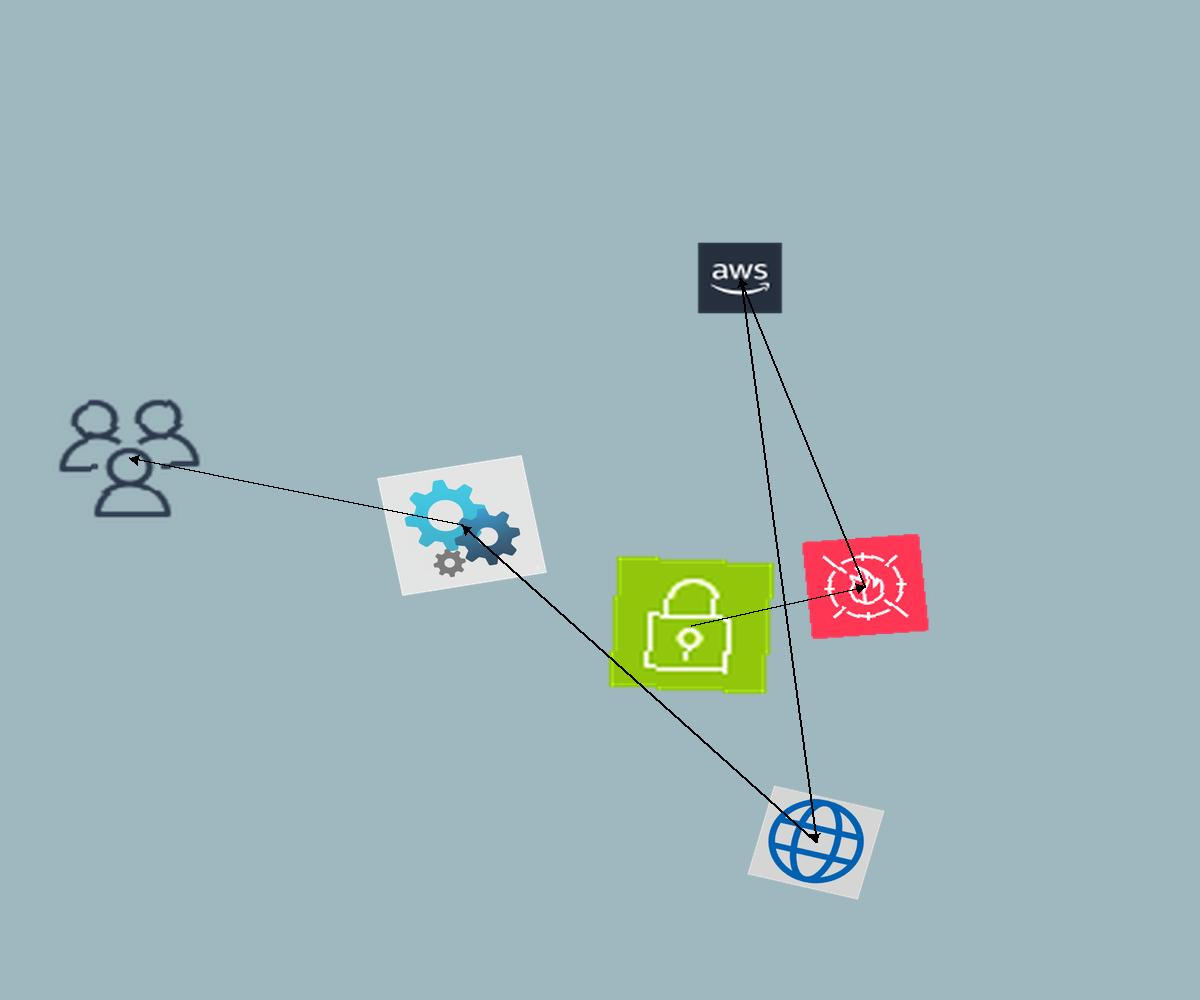AWS-Cloud-logo: (696, 241, 784, 315)
AWS-Public-subnet: (605, 553, 778, 697)
AWS-Res_Users: (50, 392, 209, 525)
AWS-WAF: (801, 533, 930, 640)
Azure_api: (377, 455, 547, 596)
Azure_http: (747, 785, 885, 900)
